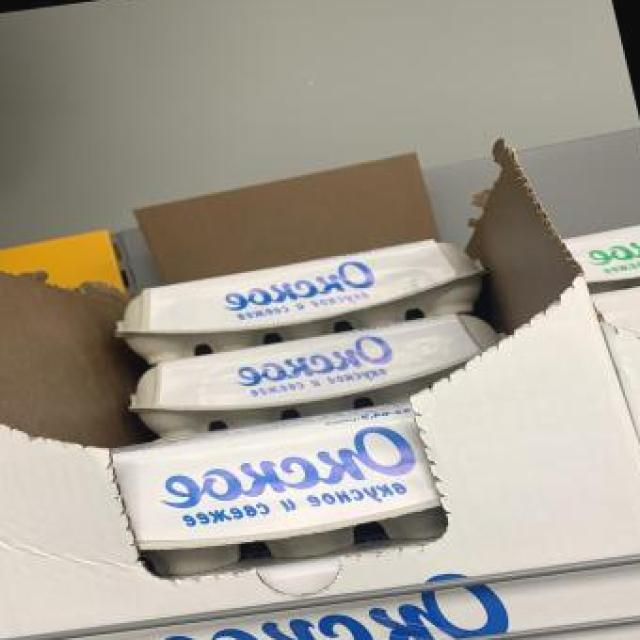egg: (106, 398, 447, 579), (96, 230, 504, 363), (114, 308, 512, 441), (559, 212, 640, 296), (591, 275, 640, 356)
